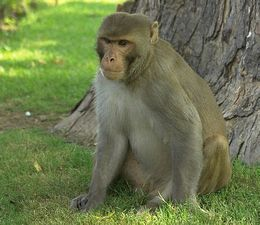monkey: (26, 10, 220, 222)
